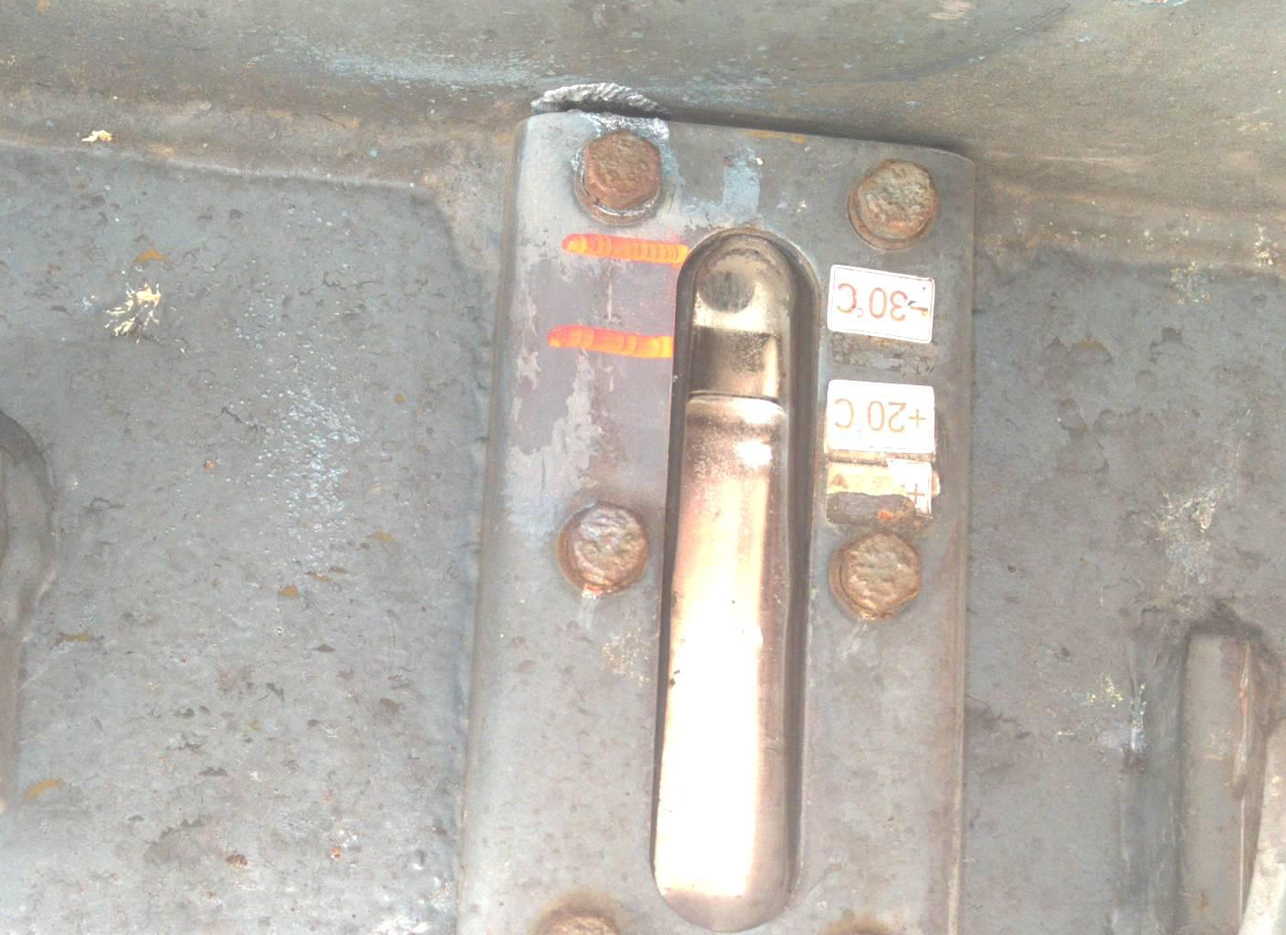oil_level_gauge: (542, 124, 950, 932)
